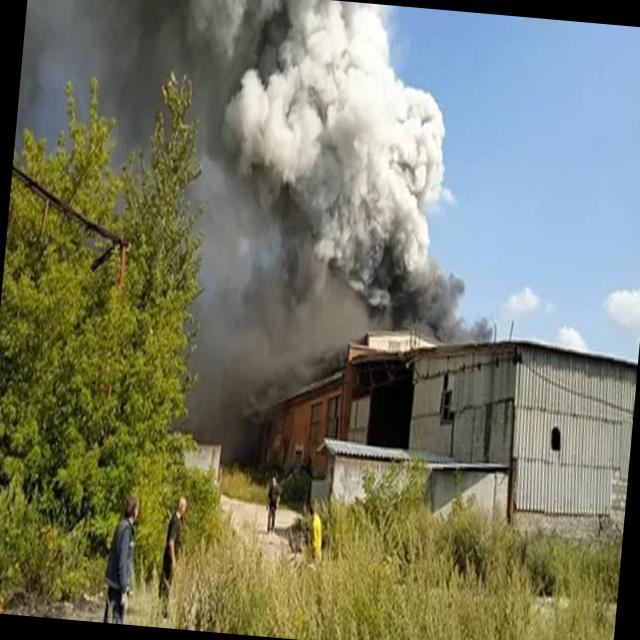Smoke: (49, 0, 521, 349)
